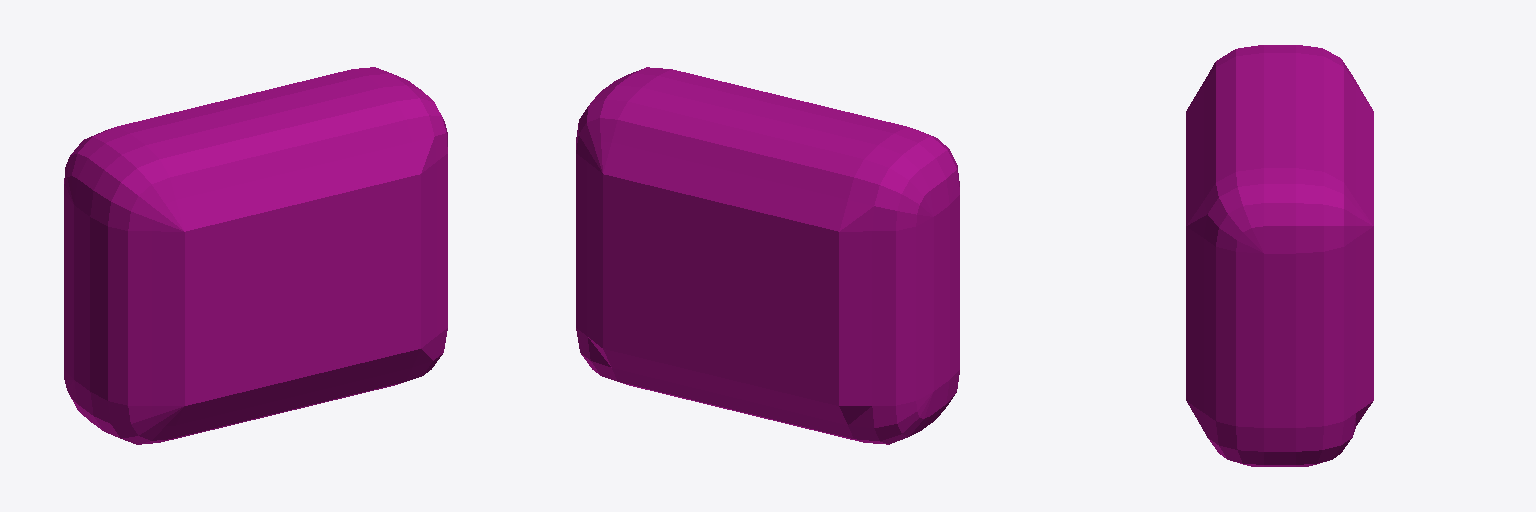
The model's file is healthkit_001.obj.
The picture shows the model from 3 angles: view 1: azimuth 30°, elevation 25°; view 2: azimuth 150°, elevation 25°; view 3: azimuth 270°, elevation 25°; orthographic projection.
Visible parts, largest first — view 1: Box001; view 2: Box001; view 3: Box001.
Boxes of the visible parts, x1,y1,x2,y2 form: Box001: [64, 67, 447, 444]; Box001: [576, 67, 959, 444]; Box001: [1186, 45, 1373, 466].
Bounding box in the file's own units: 50 × 40 × 23.33.